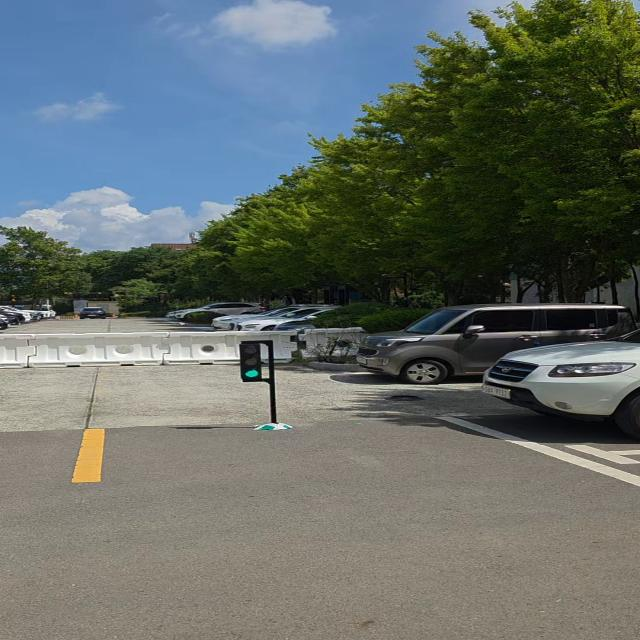green: (240, 341, 267, 382)
